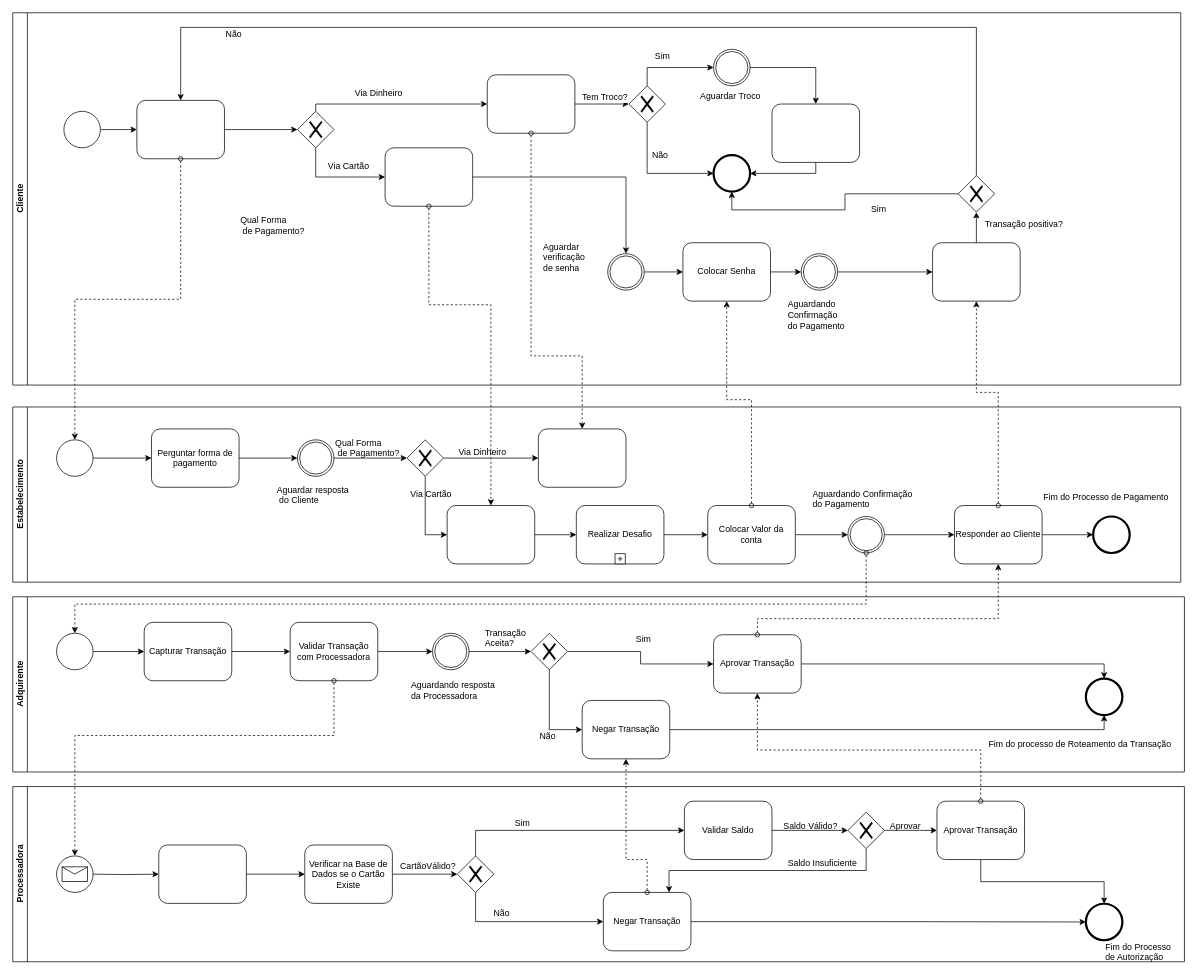
This 1197x976 diagram has some shape labels left out. The centre of each missing label's shape, as x and y in pixels:
Apresentar cartão ao atendente: pixel 428 176
Apresentar cédulas ao atendente: pixel 531 103
Contar Dinheiro: pixel 582 457
Inserir cartão no POS: pixel 490 534
Pagar a conta do Estabelecimento: pixel 180 129
Receber Resposta: pixel 976 271
Validar conexão com a Processadora: pixel 202 873
Verificar troco: pixel 815 132
